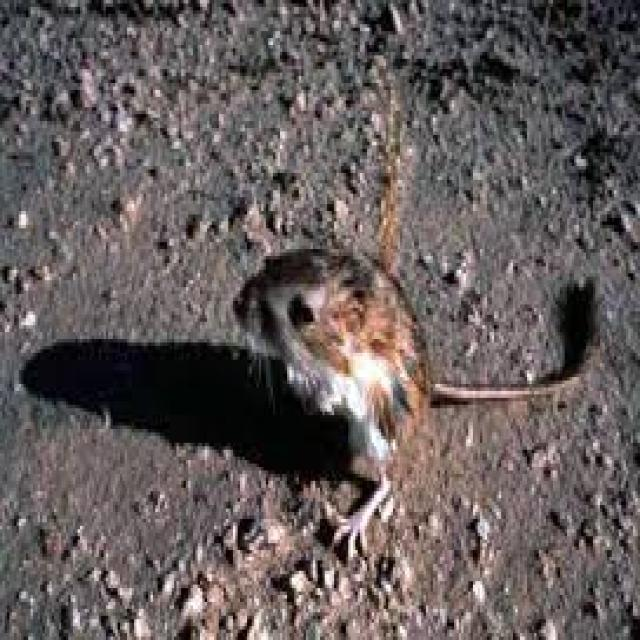Rat: (211, 184, 603, 516)
